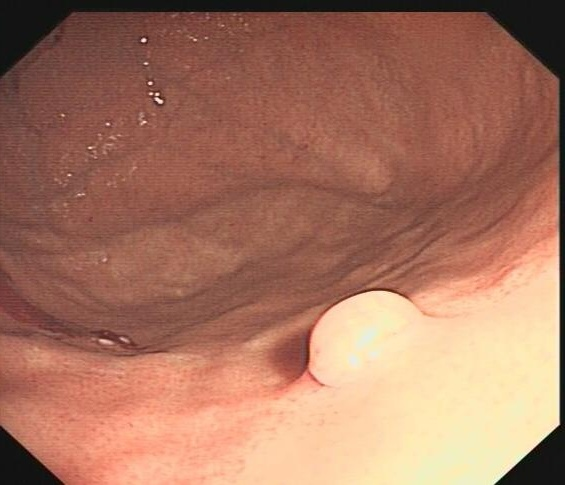Polyp: (295, 285, 433, 391)
